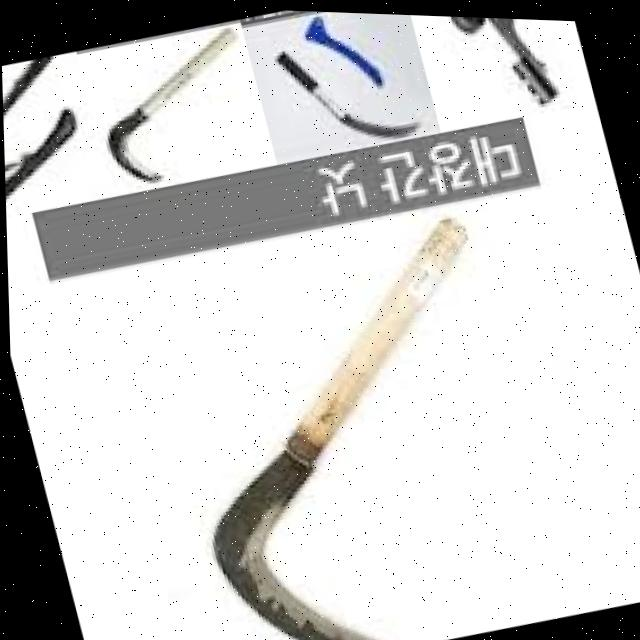sickle: (108, 173, 545, 640), (98, 15, 271, 204), (1, 55, 66, 156)
